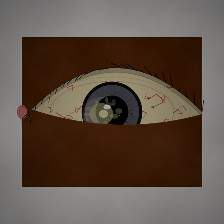corneal_ulcer: (82, 98, 121, 129)
